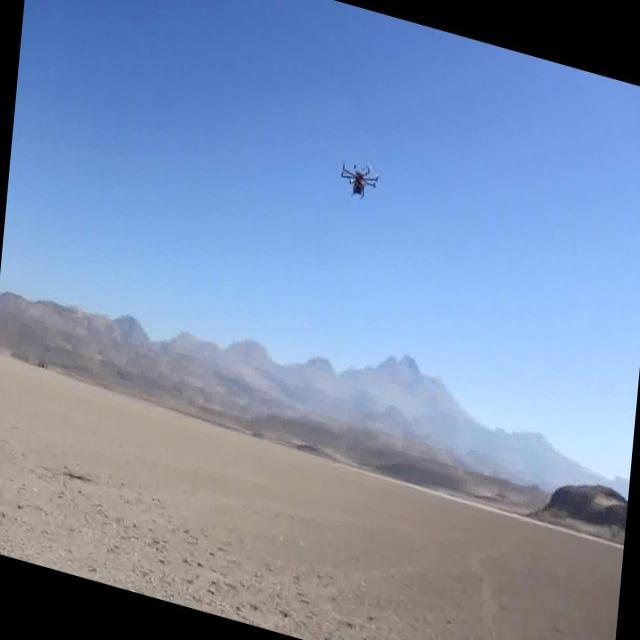drone: (336, 153, 382, 209)
